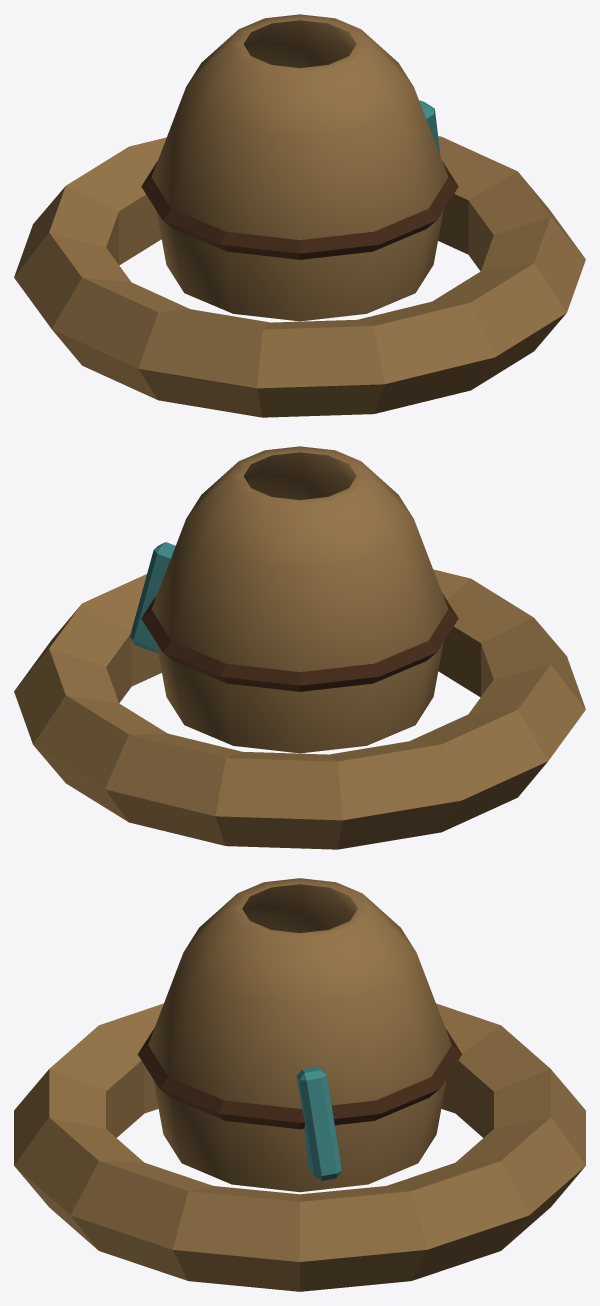
The model's file is wearable_field_hat_a.glb.
3 renders of one model, top to bottom at view 1: azimuth 30°, elevation 25°; view 2: azimuth 150°, elevation 25°; view 3: azimuth 270°, elevation 25°, orthographic. The views are drawn at different scales.
Parts seen in each view (by area): view 1: field_hat_brim, field_hat_band; view 2: field_hat_brim, field_hat_band, field_hat_tie; view 3: field_hat_brim, field_hat_band, field_hat_tie.
Part boxes in pixels (x1,y1,x2,y2): field_hat_brim: (14, 14, 585, 417); field_hat_band: (141, 161, 458, 259); field_hat_brim: (14, 446, 585, 849); field_hat_band: (141, 593, 458, 691); field_hat_tie: (130, 542, 175, 653); field_hat_brim: (14, 878, 585, 1291); field_hat_band: (137, 1028, 462, 1129); field_hat_tie: (296, 1066, 341, 1180).
Bounding box in the file's own units: 0.73 × 0.3768 × 0.7117.
